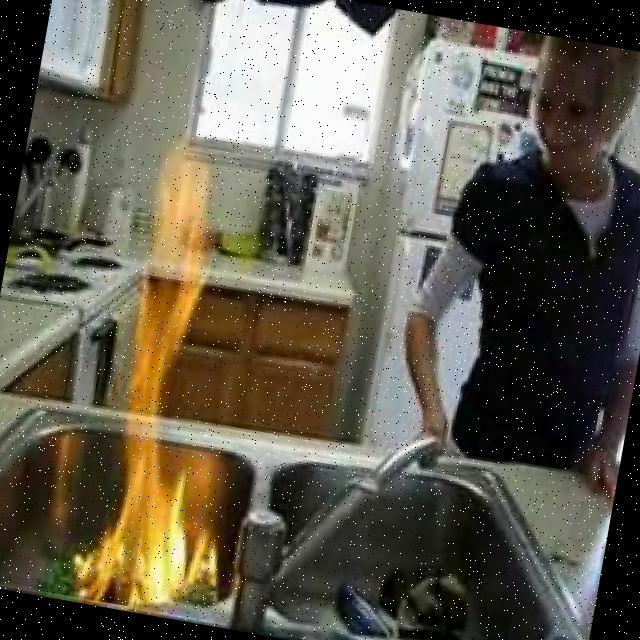Fire: (75, 146, 287, 617)
